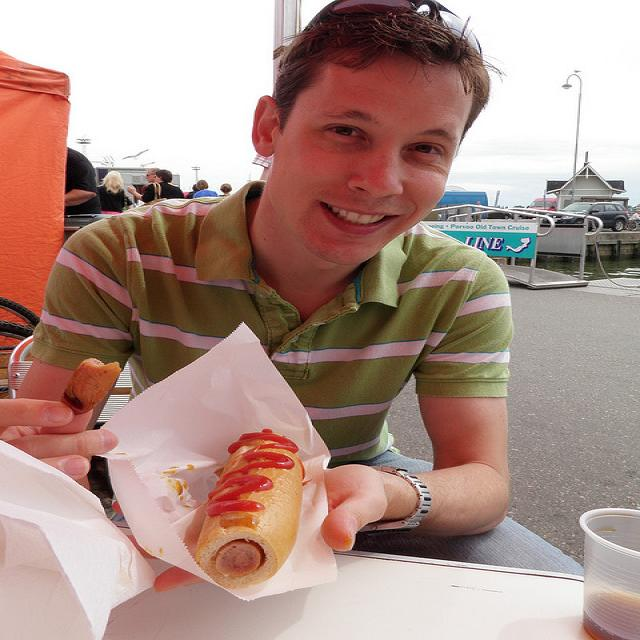Vehicle: (536, 201, 631, 232), (526, 197, 557, 210), (487, 213, 506, 219)
